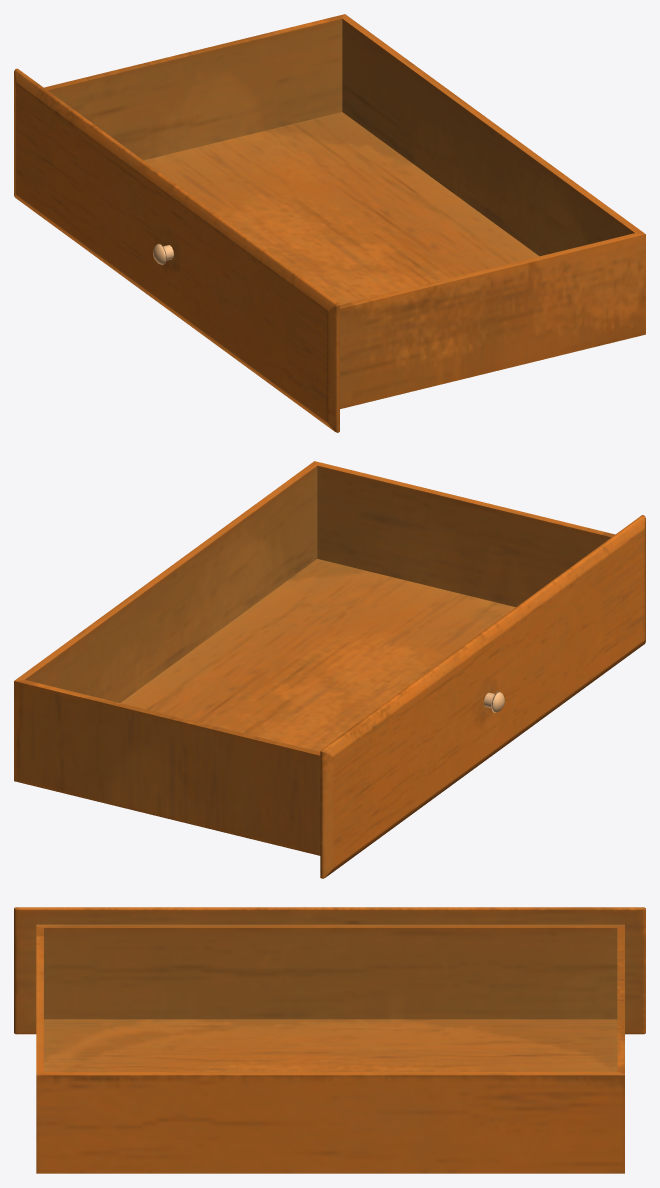
The model's file is SM_Drawer_A1_Cab2.fbx.
3 renders of one model, top to bottom at view 1: azimuth 30°, elevation 25°; view 2: azimuth 150°, elevation 25°; view 3: azimuth 270°, elevation 25°, orthographic. The views are drawn at different scales.
Parts seen in each view (by area): view 1: SM_Drawer_A1_Cab2; view 2: SM_Drawer_A1_Cab2; view 3: SM_Drawer_A1_Cab2.
Part boxes in pixels (<box>): SM_Drawer_A1_Cab2: <box>14,14,645,432</box>; SM_Drawer_A1_Cab2: <box>14,461,645,878</box>; SM_Drawer_A1_Cab2: <box>14,907,645,1173</box>.
Size of the model in its own units: 49.55 by 81.46 by 17.89.
Materials: 1 (1 with a texture image).
